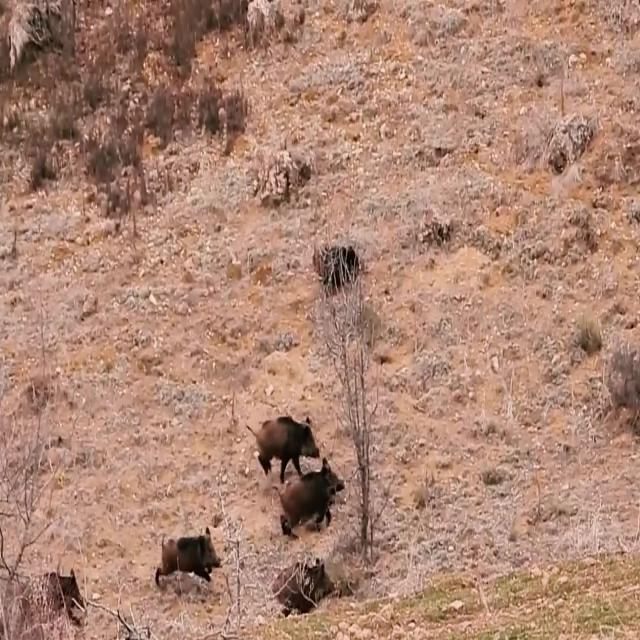pig: (260, 453, 368, 569), (245, 393, 337, 486), (153, 510, 234, 598), (24, 556, 97, 615)
